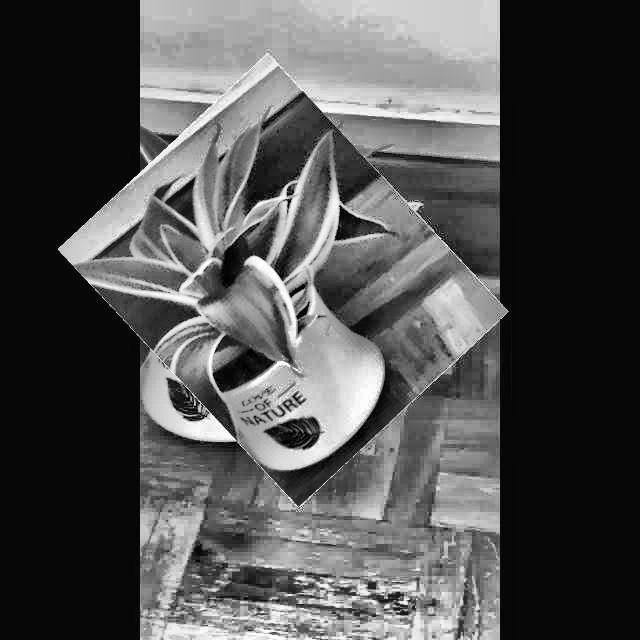plants: (99, 79, 468, 482)
